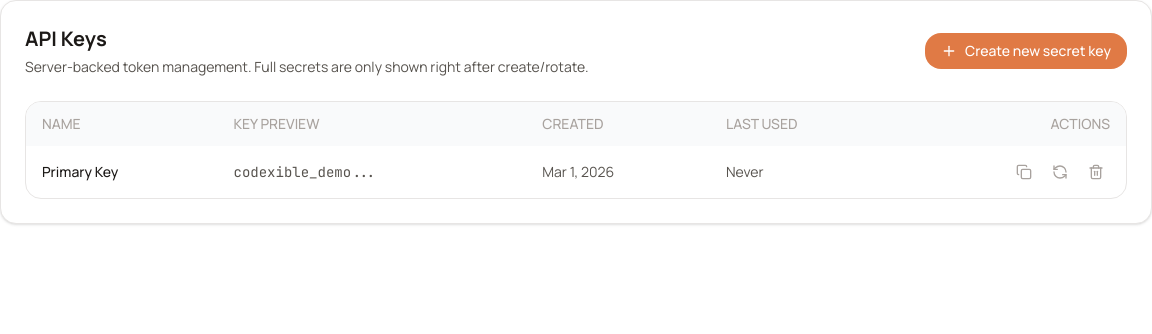
Test case: ApiKeyManager server-backed workflow › creates a key through backend API
Expected: the text "Primary Key" is shown, [26,146,218,198]
Click the button "Create new secret key": [1026, 51] box [925,33,1127,69]
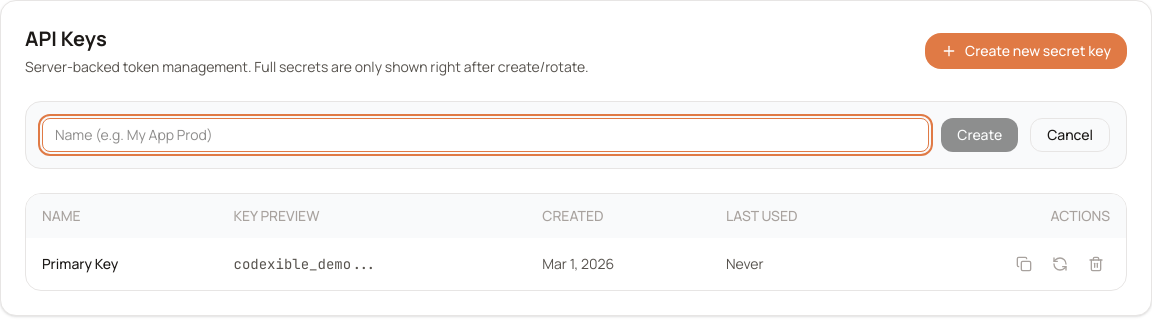
In the field with placeholder "Name (e.g. My App Prod)": [486, 135] box [42,118,929,152], type "New Key"
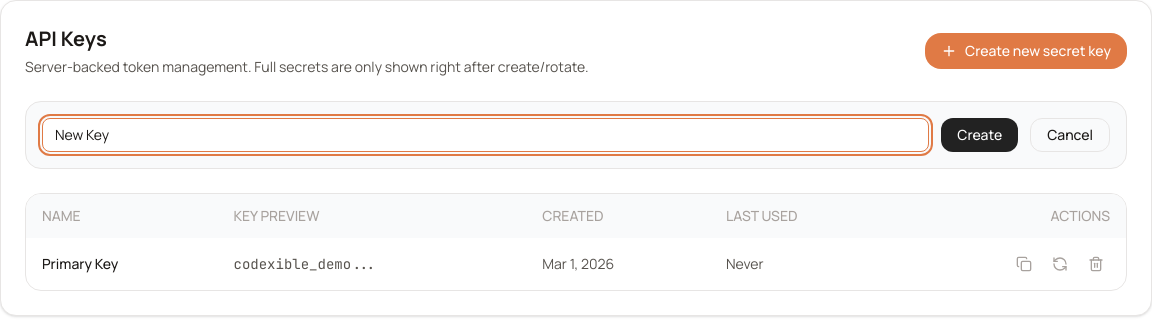
Click the button "Create": [980, 135] box [941,118,1018,152]
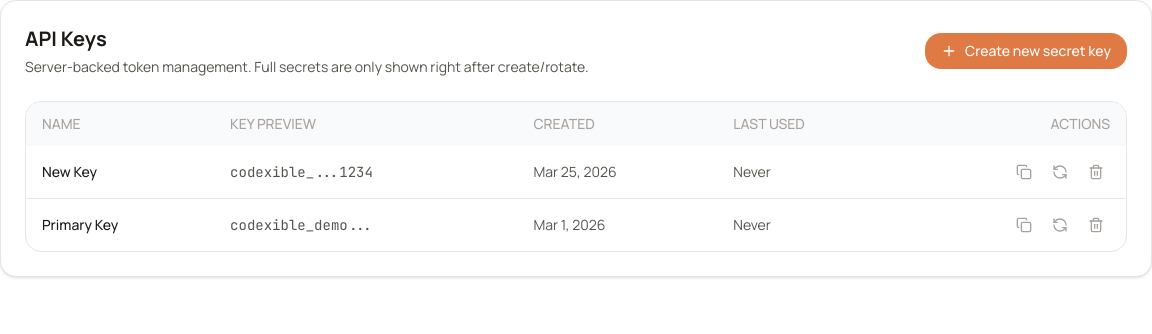
Now the text "New Key" is shown, box [26,146,214,198]
